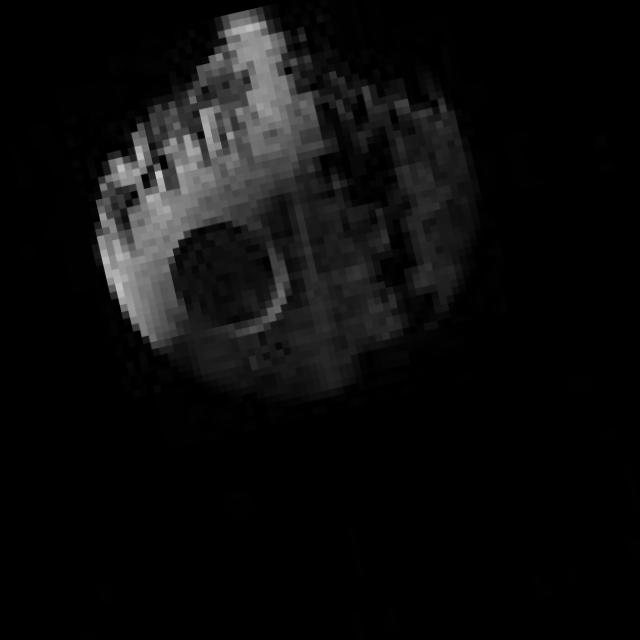Death Star: (41, 0, 527, 455)
